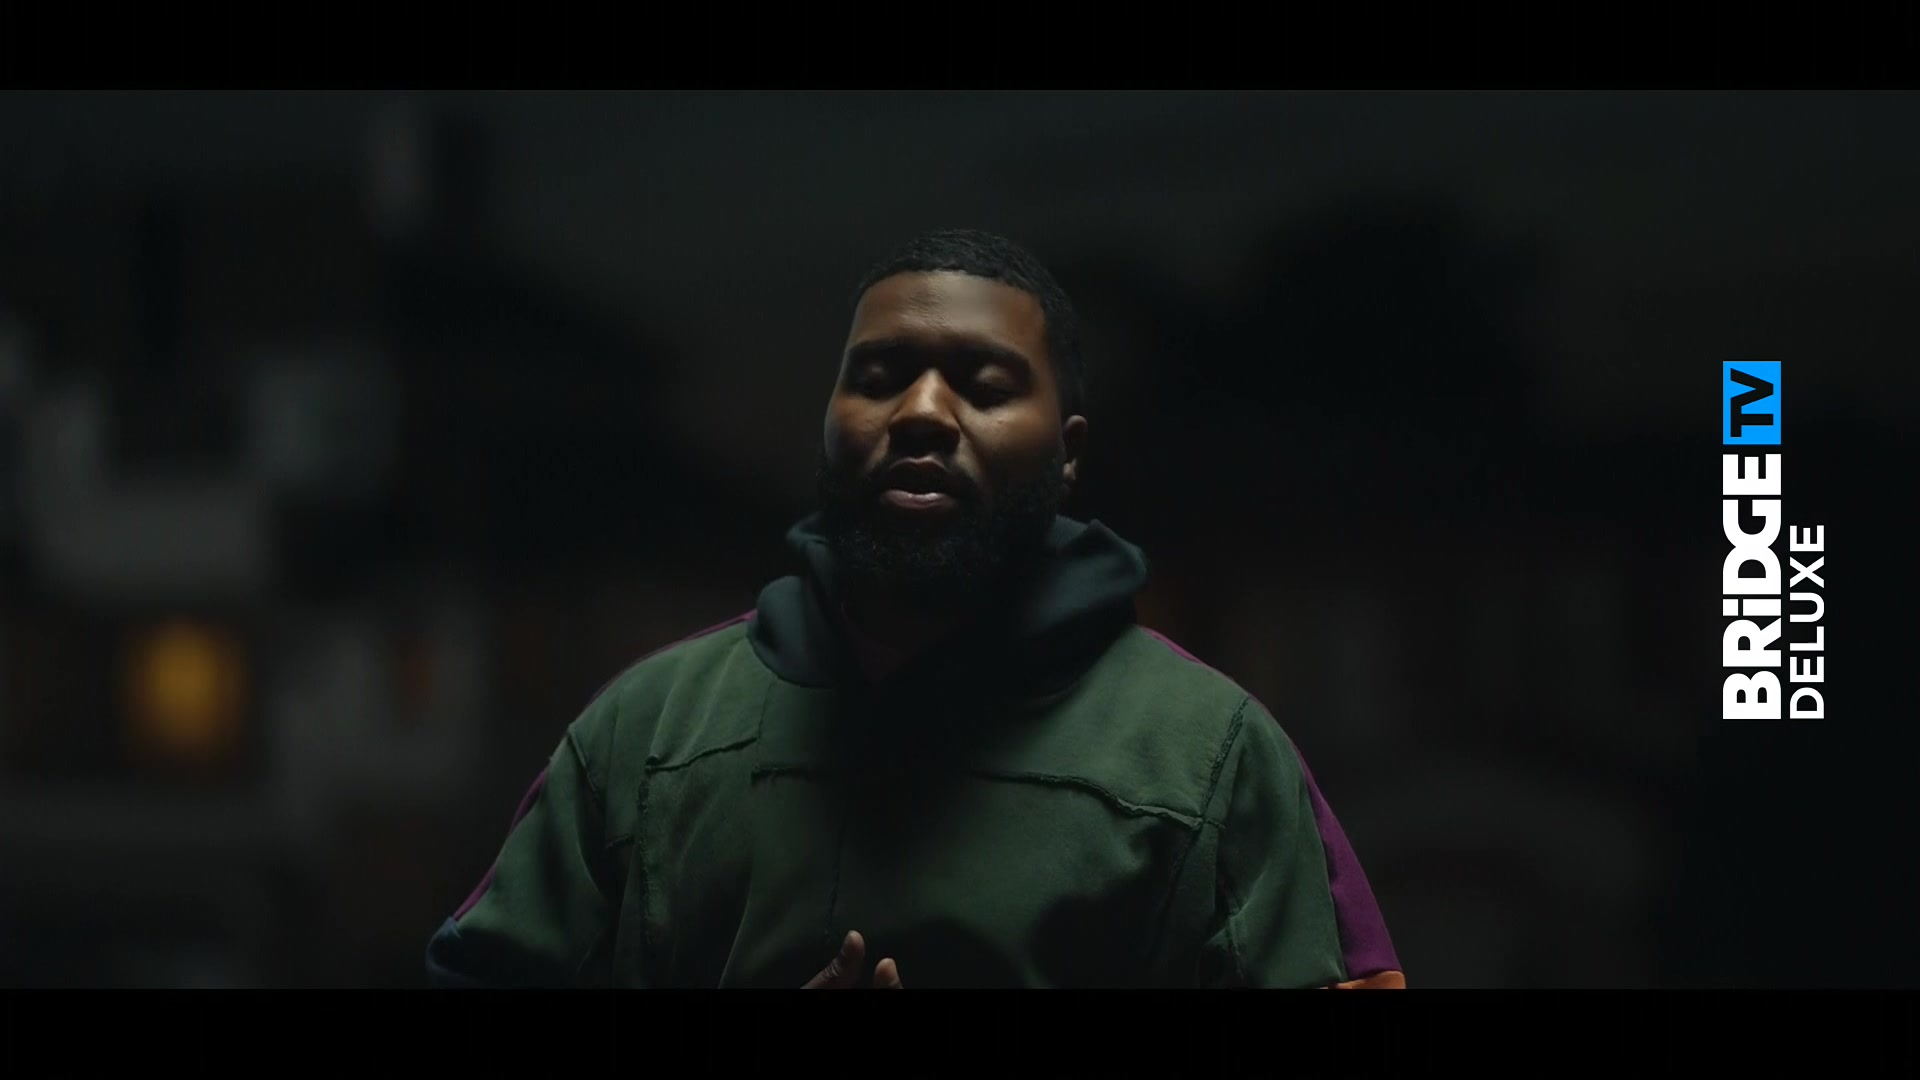Bridge_TV_Deluxe: (1716, 355, 1832, 731)
